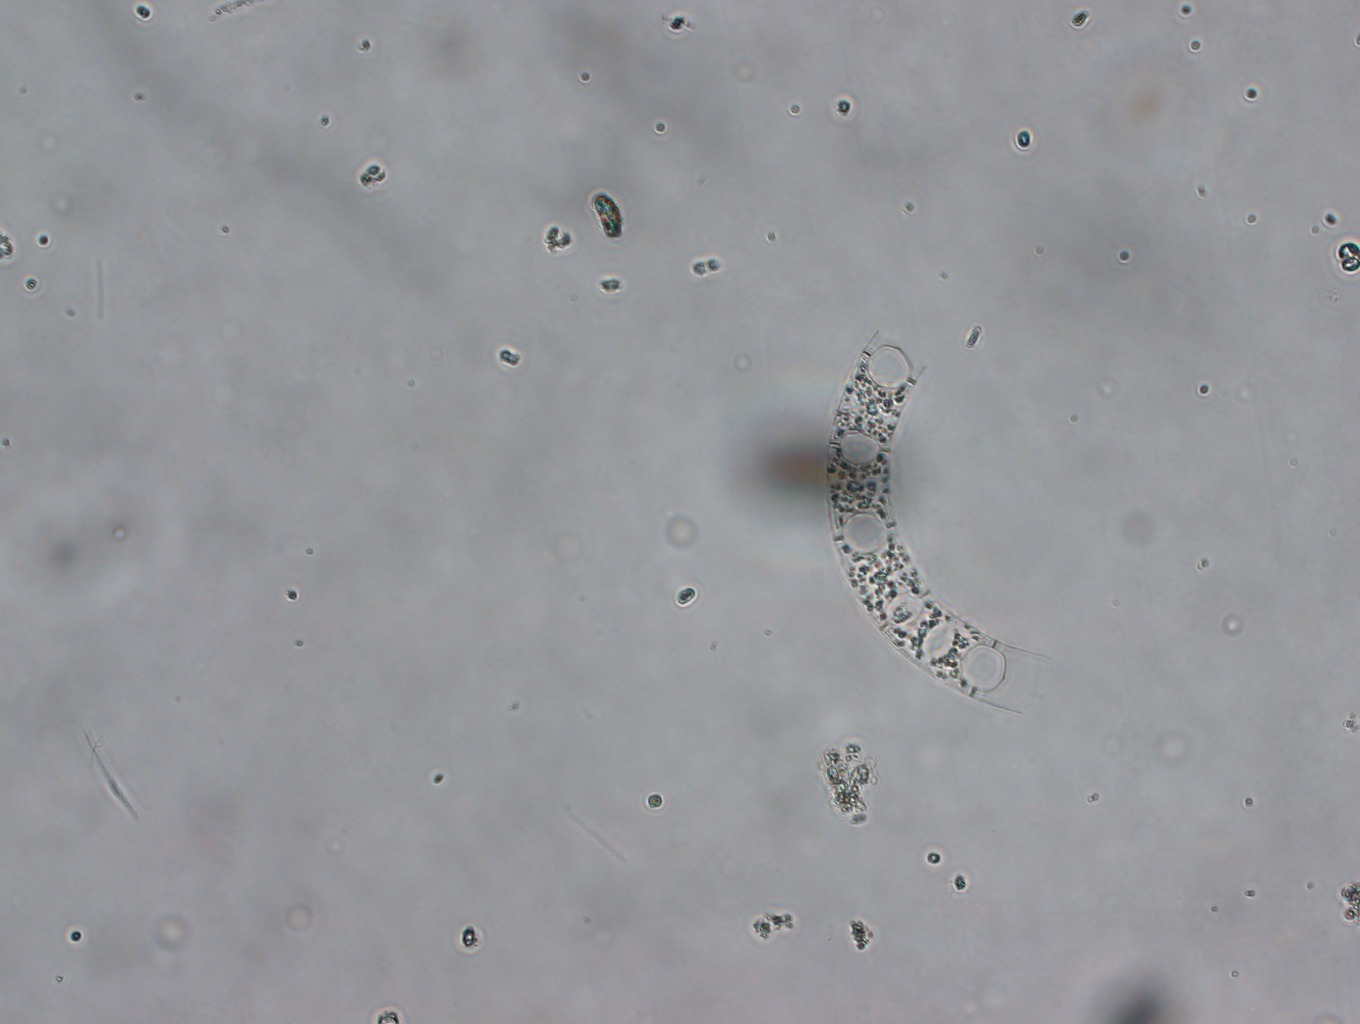eucampia: (816, 315, 1051, 727)
